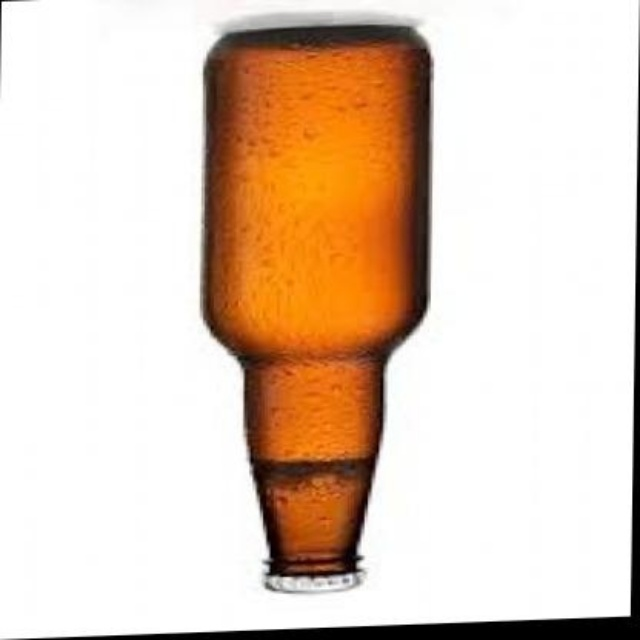trash: (203, 26, 429, 591)
